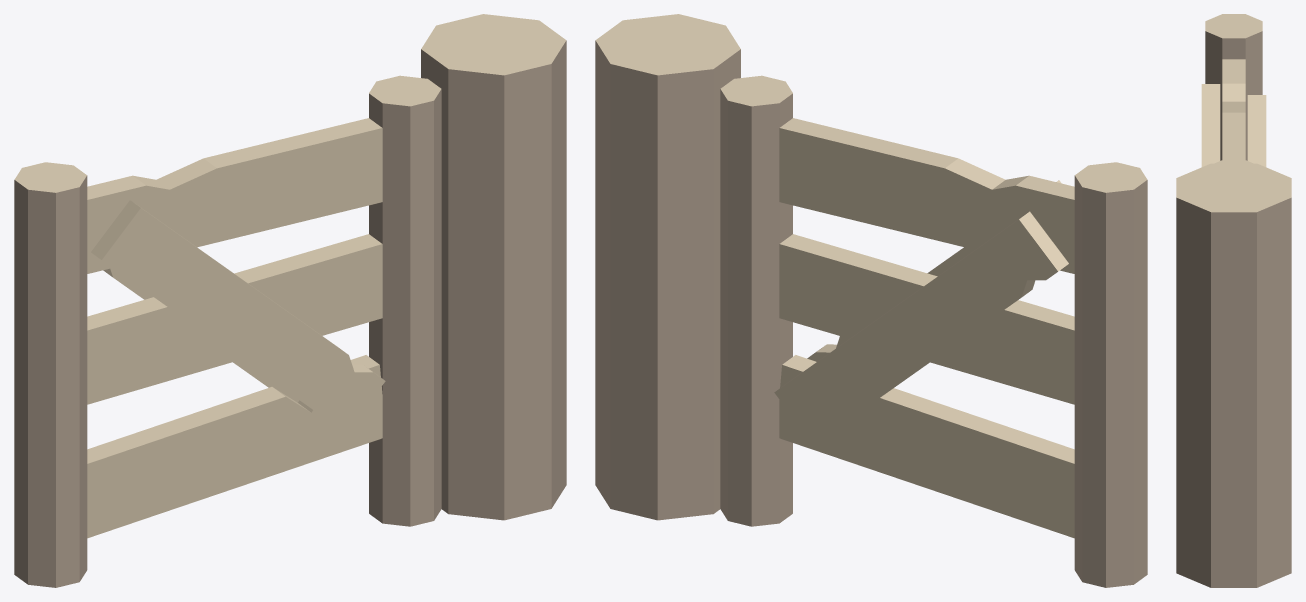
File: Hilly_Prop_Fence_Gate_1.glb
3 renders of one model, left to right at view 1: azimuth 30°, elevation 25°; view 2: azimuth 150°, elevation 25°; view 3: azimuth 270°, elevation 25°, orthographic. The views are drawn at different scales.
Visible parts, largest first — view 1: Hilly_Prop_Fence_Gate_1; view 2: Hilly_Prop_Fence_Gate_1; view 3: Hilly_Prop_Fence_Gate_1.
Part boxes in pixels (x1=…): Hilly_Prop_Fence_Gate_1: x1=14, y1=14, x2=566, y2=587; Hilly_Prop_Fence_Gate_1: x1=595, y1=14, x2=1147, y2=587; Hilly_Prop_Fence_Gate_1: x1=1176, y1=14, x2=1291, y2=587.
Size of the model in its own units: 0.315 by 0.252 by 0.07.
